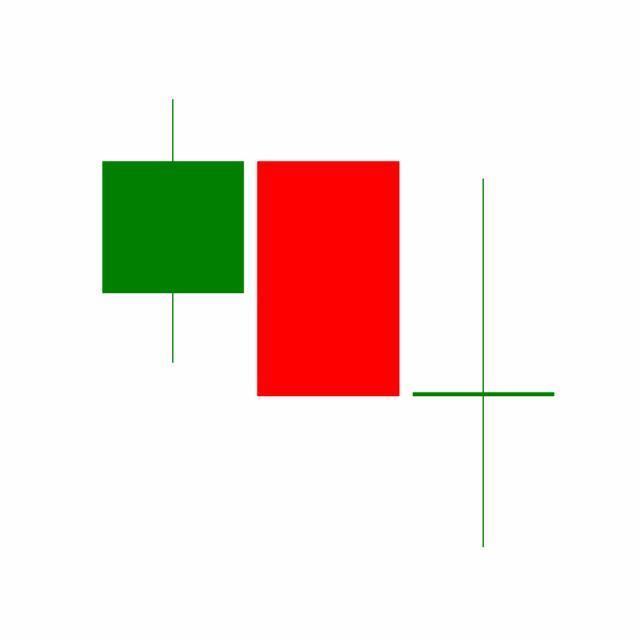Marubozu: (250, 159, 407, 400)
